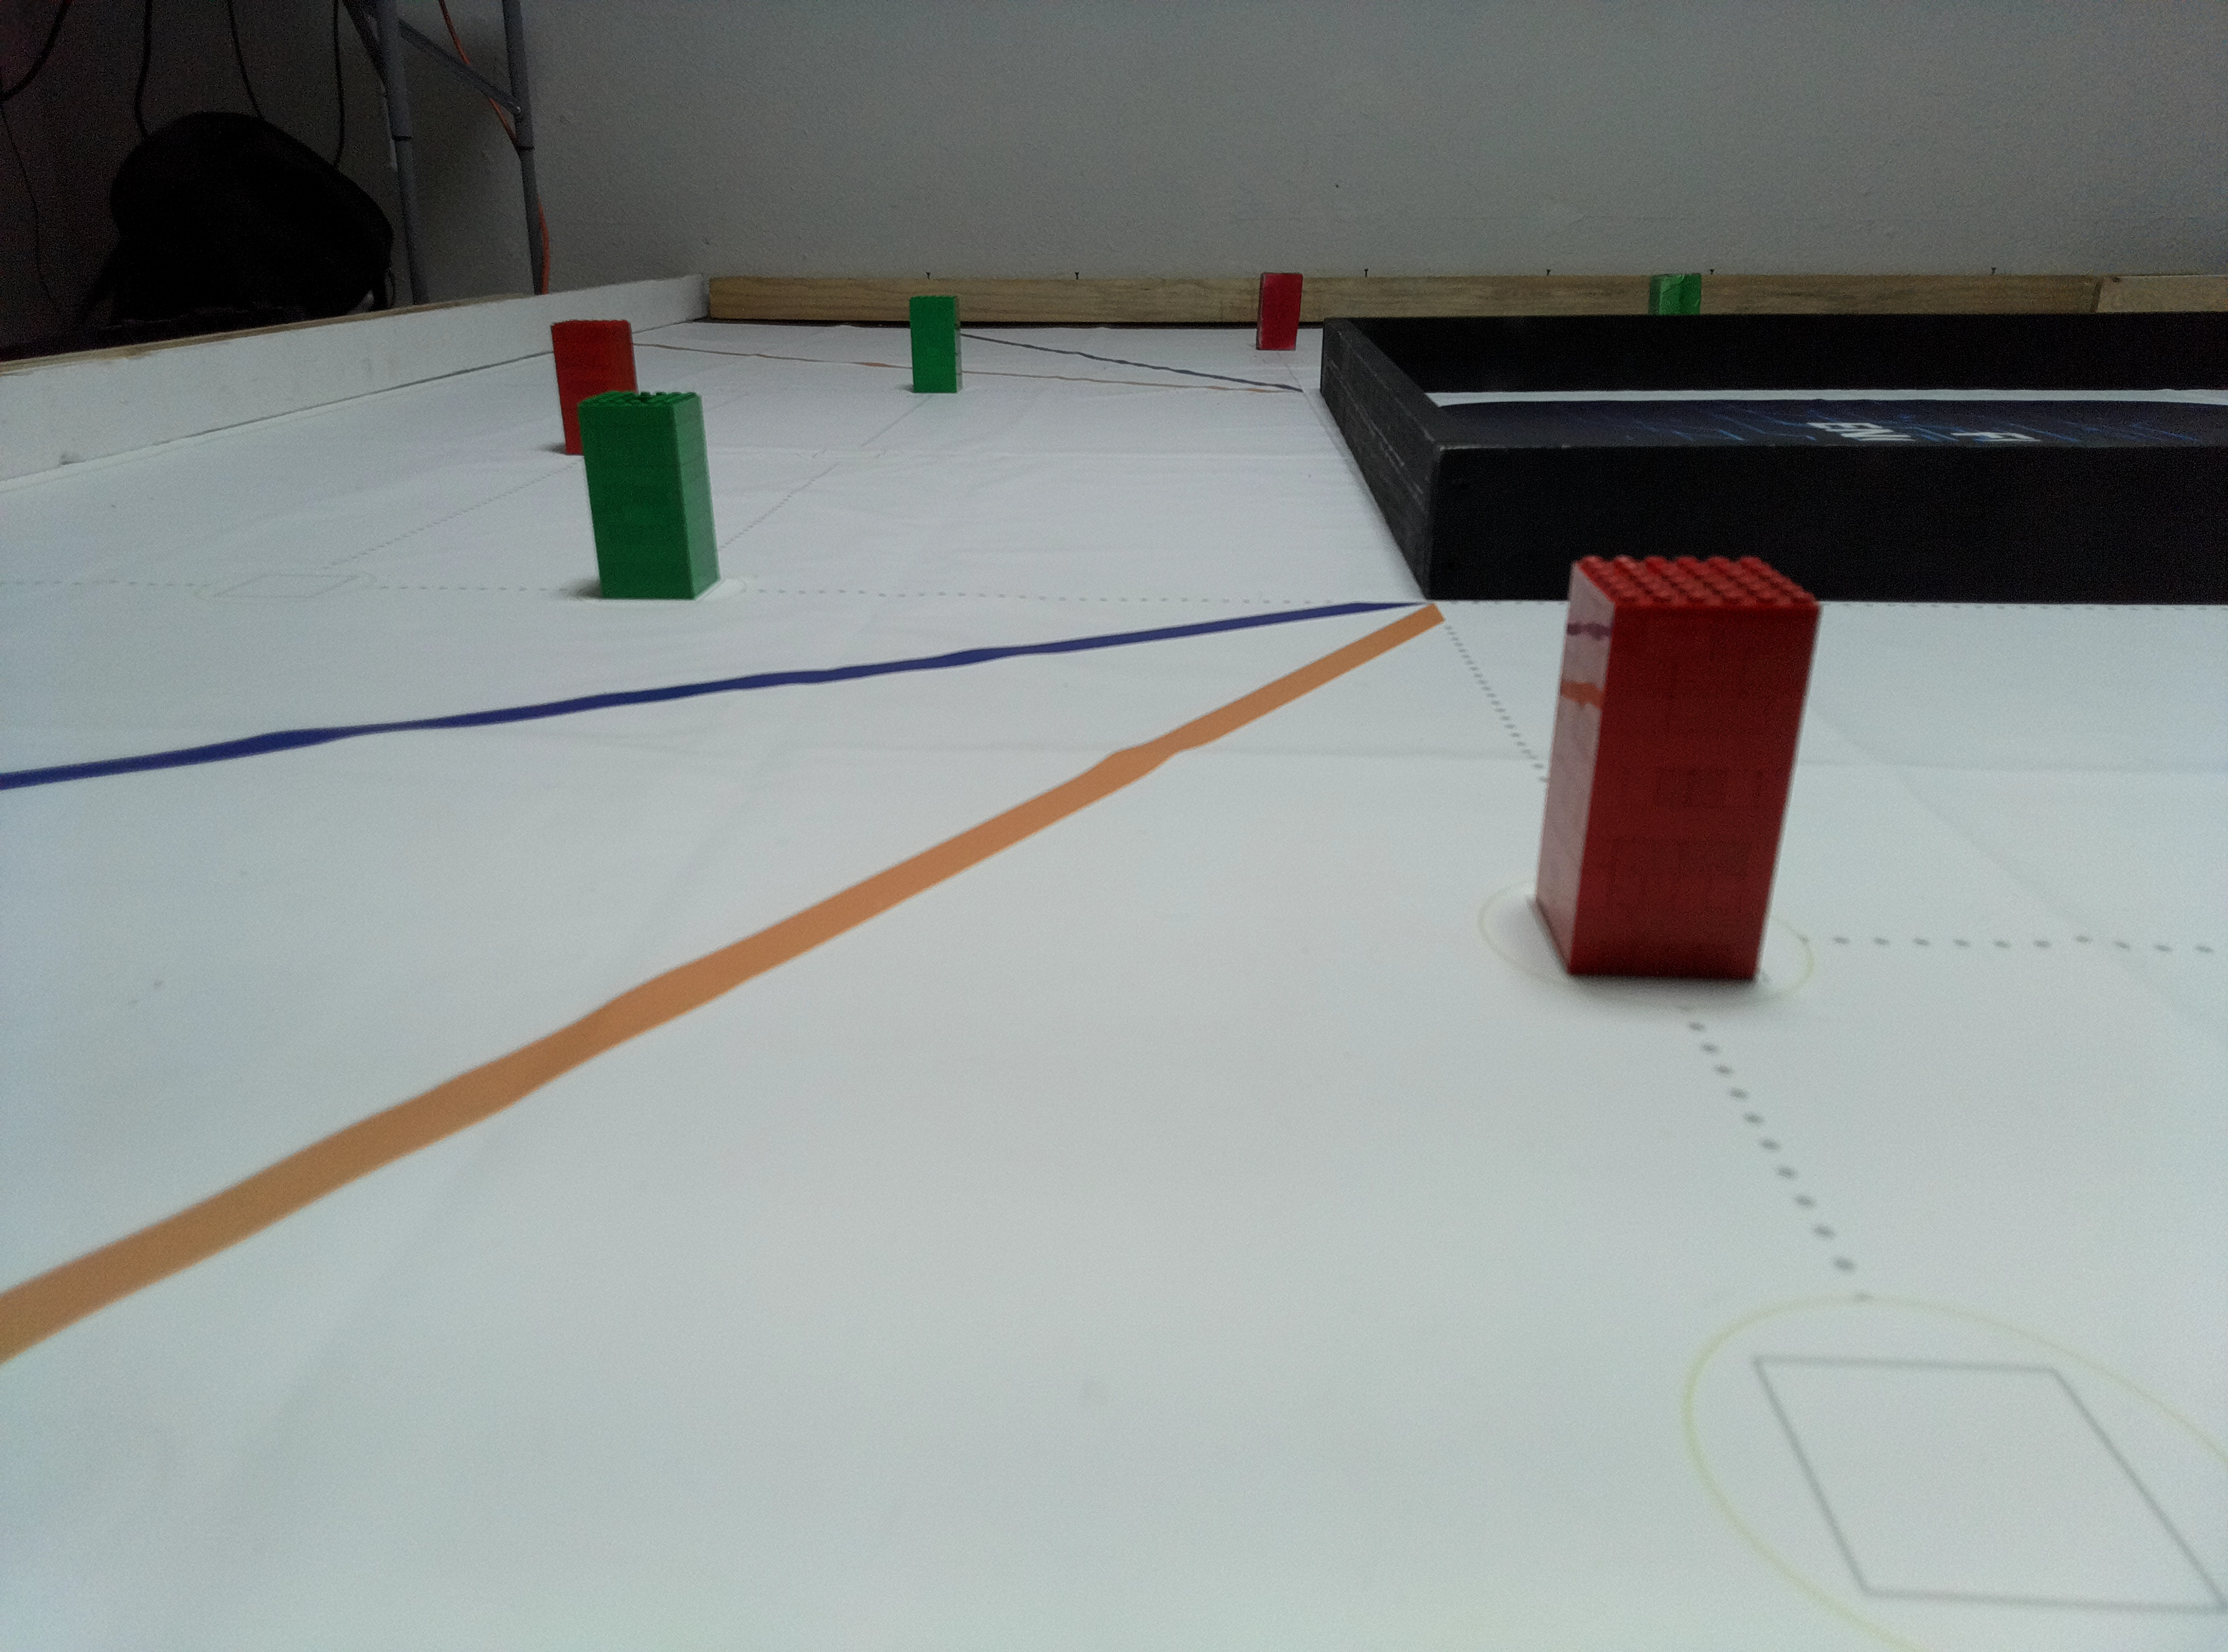greenbox: (576, 390, 722, 602), (909, 295, 963, 394), (1647, 274, 1704, 314)
redbox: (1532, 552, 1827, 984), (548, 319, 644, 456), (1255, 271, 1305, 352)
